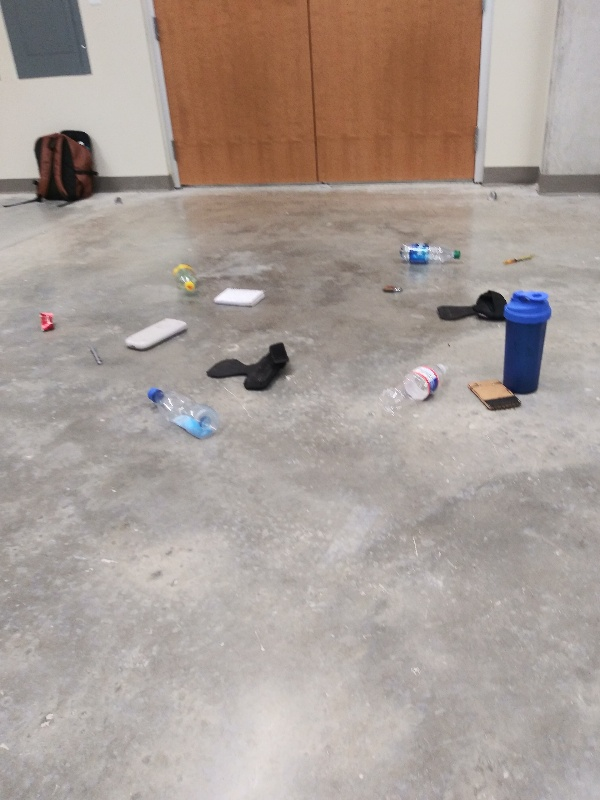bottle: (144, 383, 220, 444), (377, 357, 454, 417), (396, 239, 466, 271), (163, 258, 201, 300)
